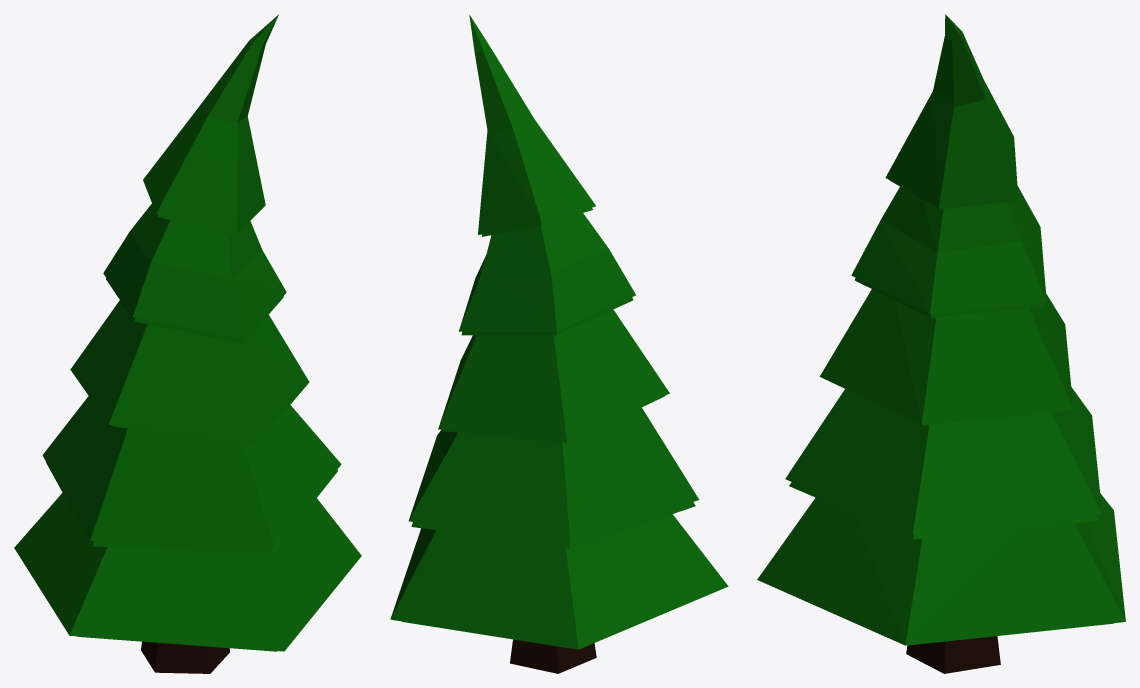
The model's file is Pine1.obj.
The picture shows the model from 3 angles, left to right: view 1: azimuth 30°, elevation 25°; view 2: azimuth 150°, elevation 25°; view 3: azimuth 270°, elevation 25°; orthographic projection. The views are drawn at different scales.
Visible parts, largest first — view 1: Cylinder.001; view 2: Cylinder.001; view 3: Cylinder.001.
Part boxes in pixels (left/top/right/bottom): Cylinder.001: left=14, top=14, right=361, bottom=673; Cylinder.001: left=390, top=14, right=728, bottom=673; Cylinder.001: left=757, top=14, right=1125, bottom=673.
Size of the model in its own units: 2.05 by 4.07 by 1.98.
1 material, 1 textured.
